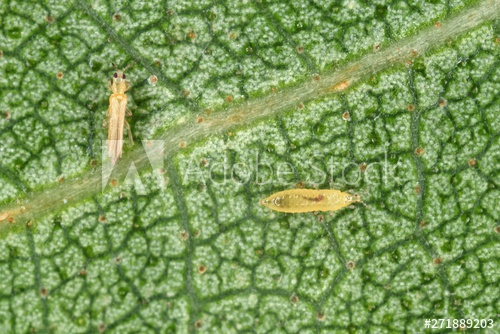Thrips: (98, 62, 136, 165), (257, 184, 364, 216)
